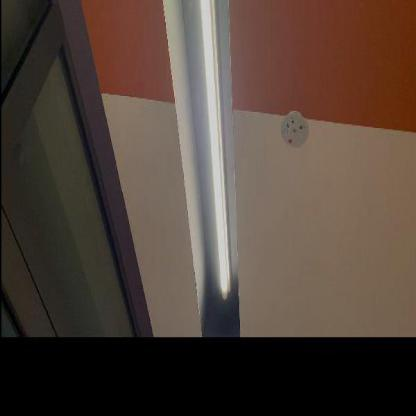light_on: (189, 0, 236, 306)
